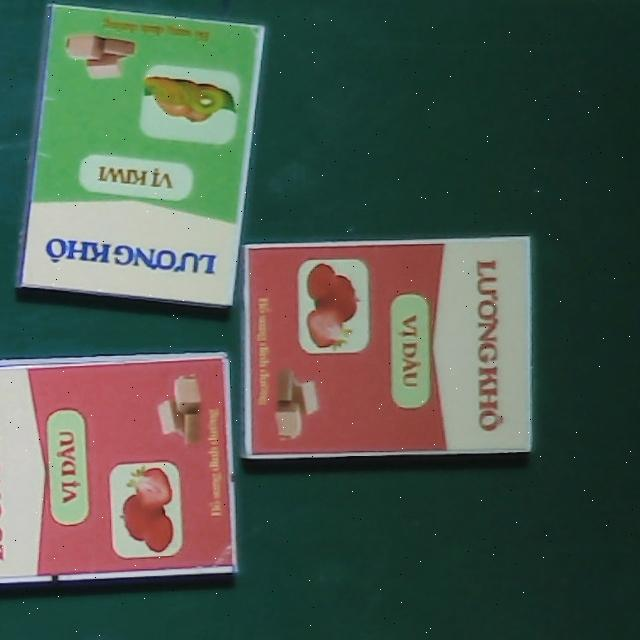dau: (242, 236, 533, 457), (0, 349, 240, 582)
kiwi: (16, 1, 263, 313)
